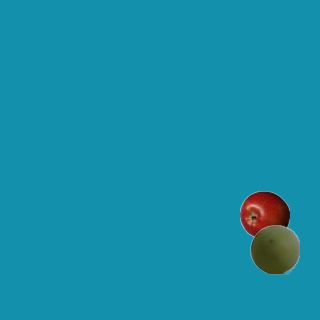Apple Braeburn: (239, 190, 289, 240)
Grape White 4: (249, 224, 299, 274)
